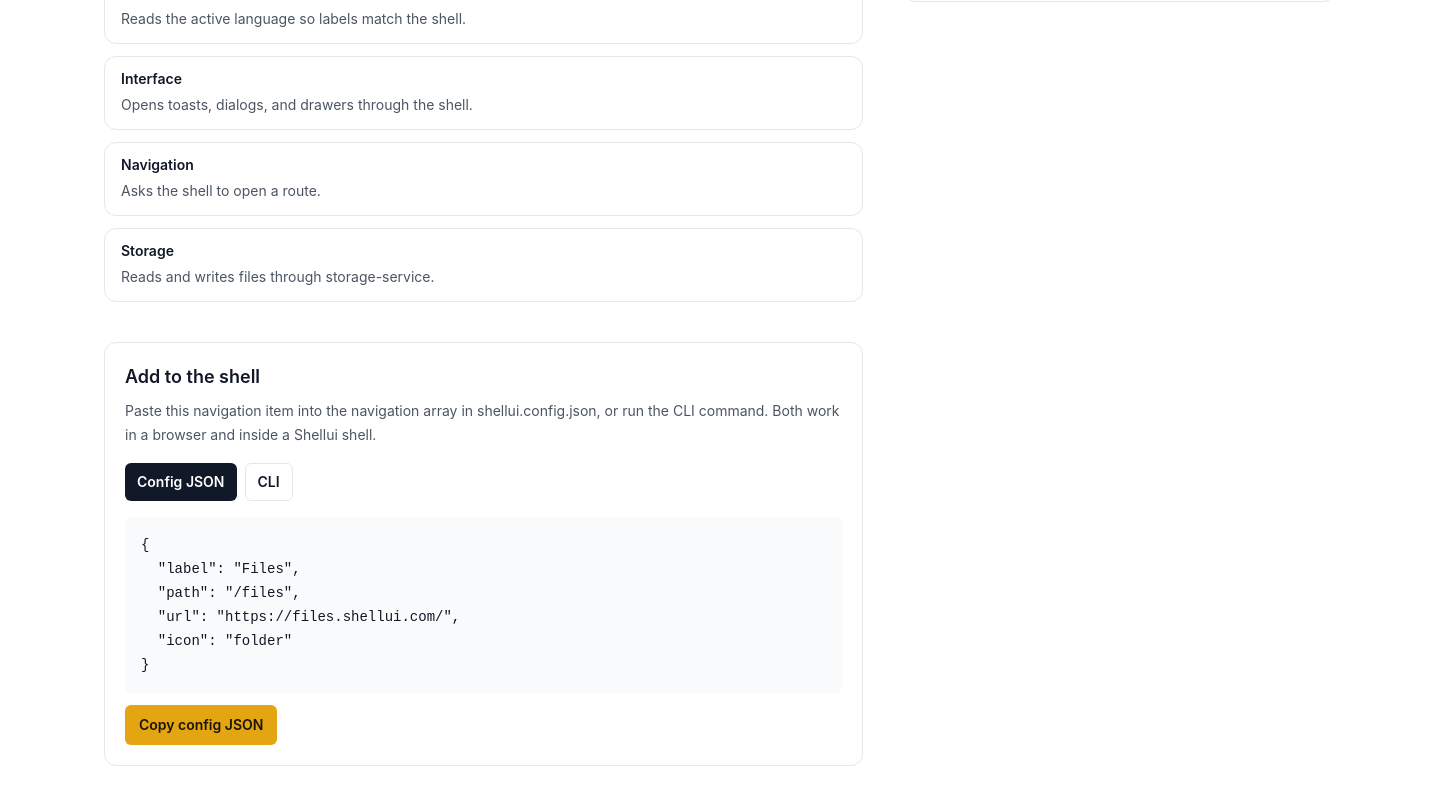
Test: copy config JSON › copies the navigation item and the CLI command
The width and height of the screenshot is (1440, 798).
Later steps or results of the test are not shown.
(page scrolled)
Check: the text "\"icon\": \"folder\"" is shown, box [141,537,460,673]
Click the button "Copy config JSON": click(201, 725) [125,705,277,745]
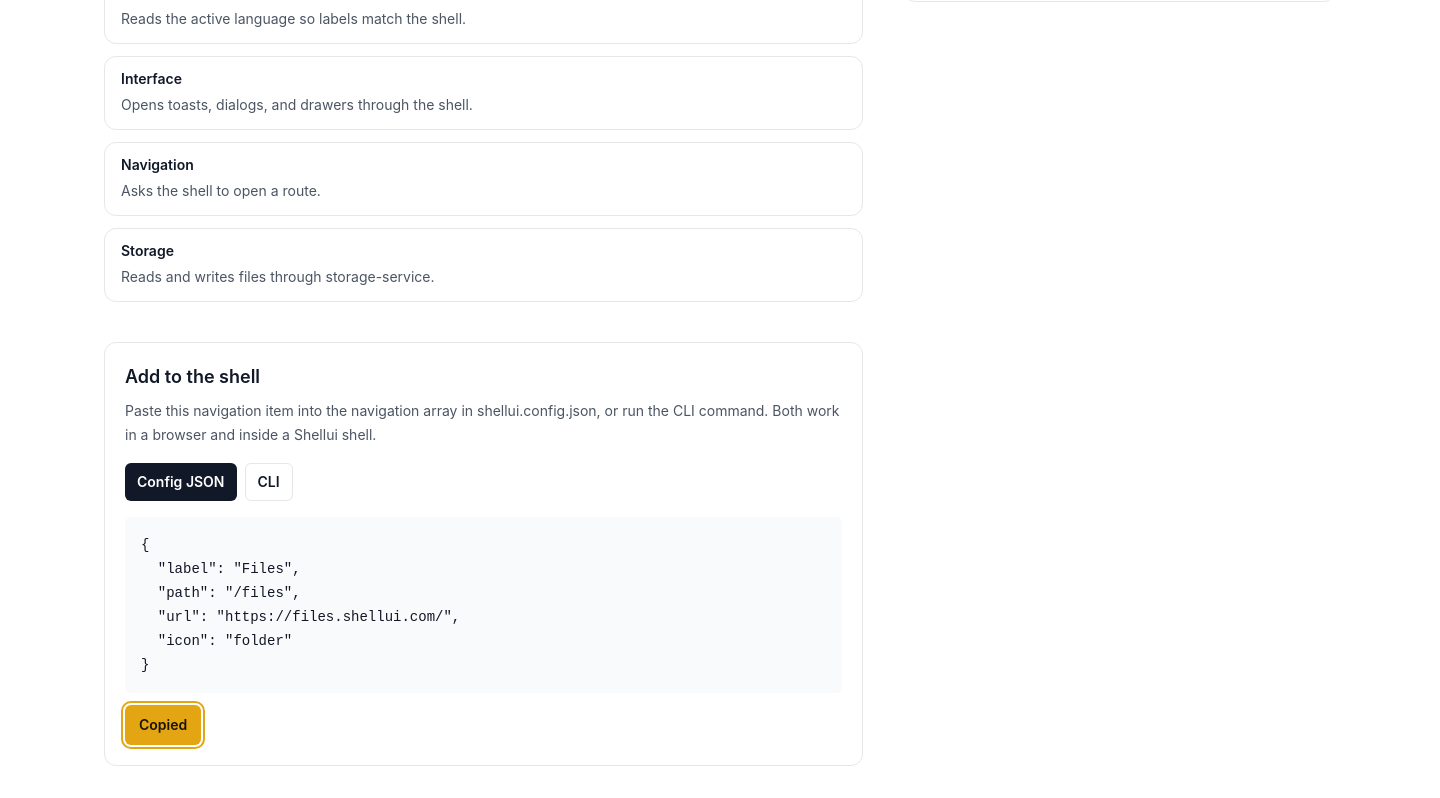
Click the tab "CLI": click(269, 482) [244,463,293,501]
(page scrolled)
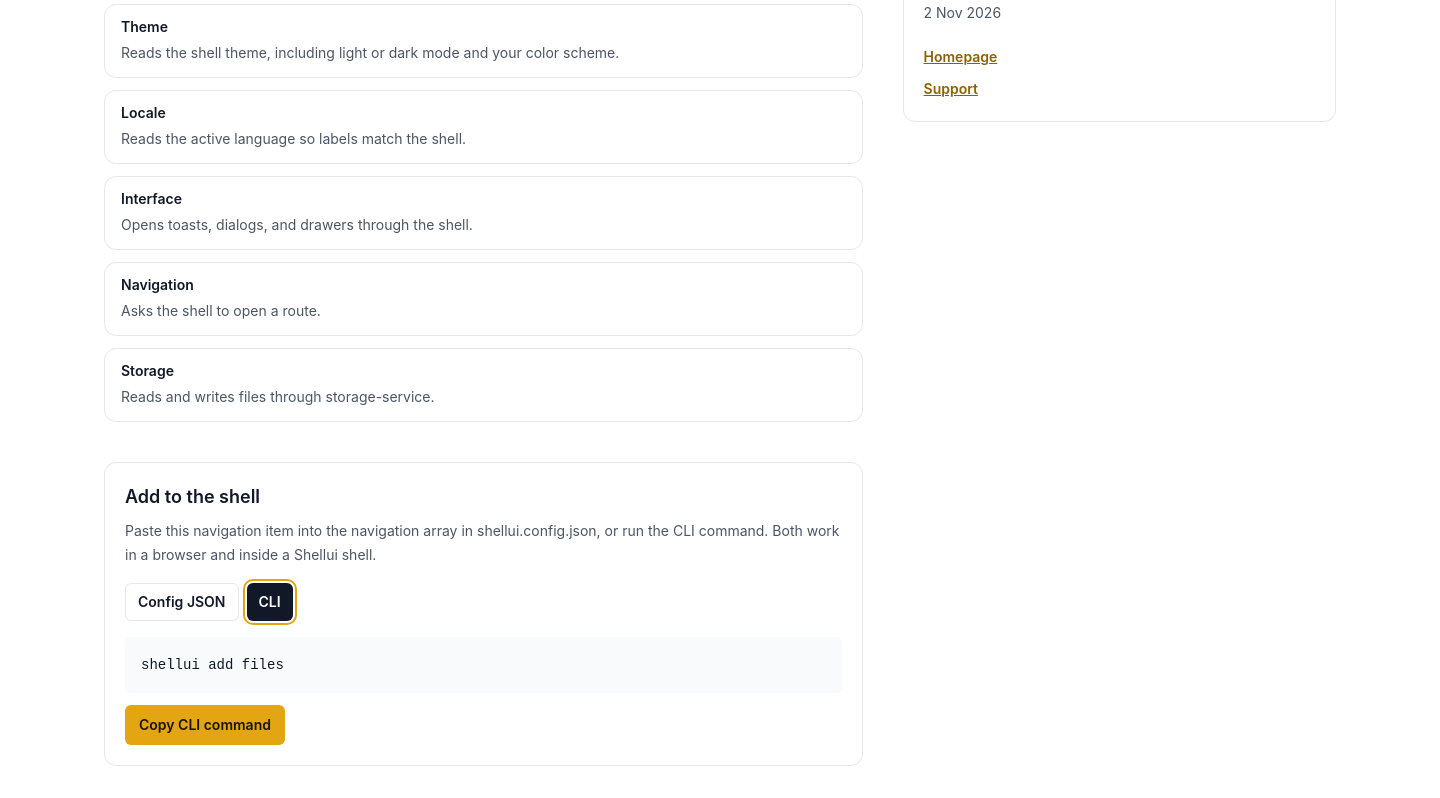
Check: the text "shellui add files" is shown, box [125,637,842,693]
